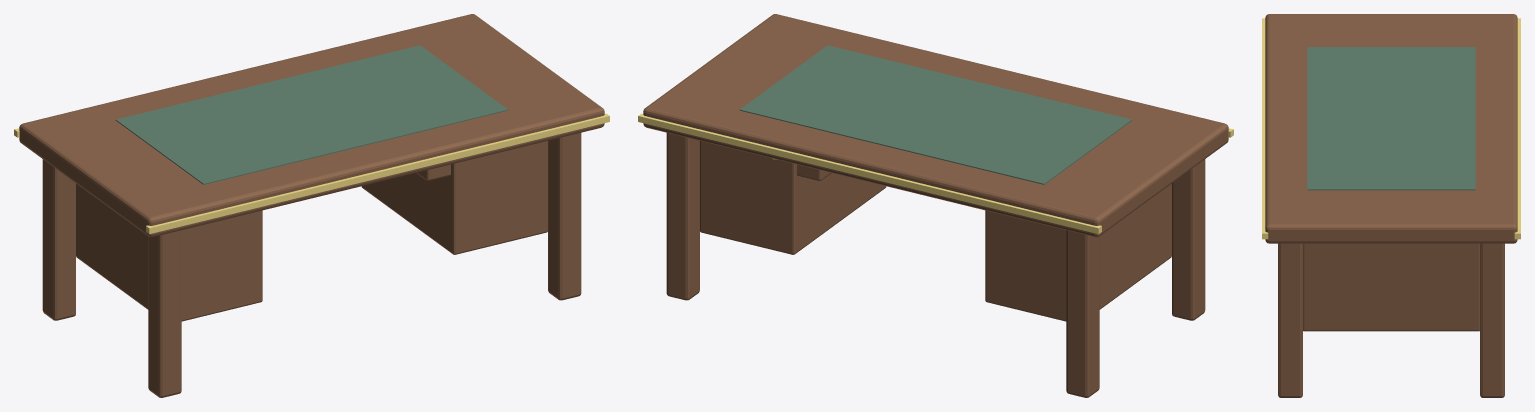
Rendered from study_desk.glb.
3 views of the same model, side by side, from view 1: azimuth 30°, elevation 25°; view 2: azimuth 150°, elevation 25°; view 3: azimuth 270°, elevation 25° (orthographic). The views are drawn at different scales.
Parts seen in each view (by area): view 1: DeskTop, WritingBlotter, DeskPedestal_-0.75, DeskPedestal_0.75, DeskLeg_1.05_-0.48, DeskLeg_-1.05_-0.48, DeskLeg_-1.05_0.48, GoldTrim_-1; view 2: DeskTop, WritingBlotter, DeskPedestal_-0.75, DeskPedestal_0.75, DeskLeg_1.05_0.48, DeskLeg_-1.05_0.48, DeskLeg_-1.05_-0.48, GoldTrim_1; view 3: DeskTop, WritingBlotter, DeskPedestal_0.75, DeskLeg_1.05_0.48, DeskLeg_1.05_-0.48, GoldTrim_1, GoldTrim_-1.
Boxes of the visible parts, x1=… form: DeskTop: x1=19, y1=14, x2=604, y2=237; WritingBlotter: x1=115, y1=45, x2=508, y2=184; DeskPedestal_-0.75: x1=76, y1=183, x2=262, y2=321; DeskPedestal_0.75: x1=361, y1=141, x2=547, y2=254; DeskLeg_1.05_-0.48: x1=548, y1=133, x2=581, y2=300; DeskLeg_-1.05_-0.48: x1=148, y1=230, x2=181, y2=397; DeskLeg_-1.05_0.48: x1=42, y1=159, x2=75, y2=320; GoldTrim_-1: x1=146, y1=113, x2=609, y2=234; DeskTop: x1=643, y1=14, x2=1228, y2=237; WritingBlotter: x1=739, y1=45, x2=1132, y2=184; DeskPedestal_-0.75: x1=985, y1=183, x2=1171, y2=321; DeskPedestal_0.75: x1=700, y1=141, x2=886, y2=254; DeskLeg_1.05_0.48: x1=666, y1=133, x2=699, y2=300; DeskLeg_-1.05_0.48: x1=1066, y1=230, x2=1099, y2=397; DeskLeg_-1.05_-0.48: x1=1172, y1=159, x2=1205, y2=320; GoldTrim_1: x1=638, y1=113, x2=1101, y2=234; DeskTop: x1=1265, y1=14, x2=1517, y2=243; WritingBlotter: x1=1307, y1=47, x2=1475, y2=190; DeskPedestal_0.75: x1=1303, y1=243, x2=1479, y2=331; DeskLeg_1.05_0.48: x1=1480, y1=243, x2=1504, y2=397; DeskLeg_1.05_-0.48: x1=1278, y1=243, x2=1302, y2=397; GoldTrim_1: x1=1514, y1=18, x2=1520, y2=239; GoldTrim_-1: x1=1262, y1=18, x2=1268, y2=239.
Bounding box in the file's own units: 2.42 × 0.9555 × 1.23.
